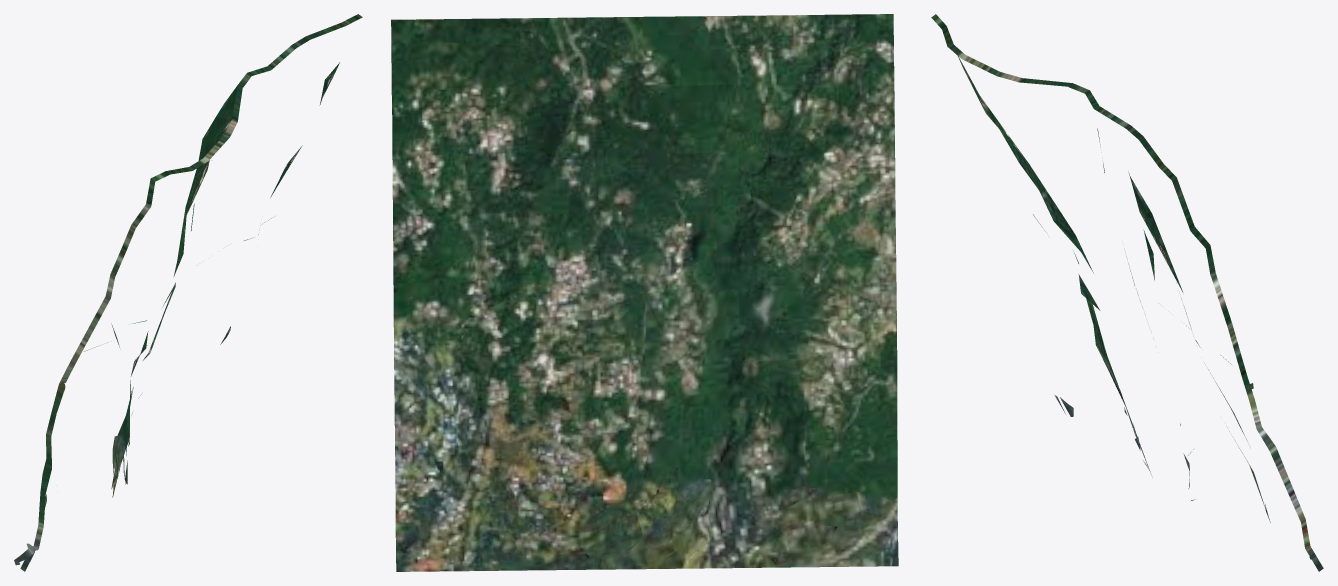
The picture shows the model from 3 angles, left to right: view 1: azimuth 30°, elevation 25°; view 2: azimuth 150°, elevation 25°; view 3: azimuth 270°, elevation 25°; orthographic projection. The views are drawn at different scales.
Bounding box in the file's own units: 2312 × 2415 × 1904.
Materials: 1 (1 with a texture image).
